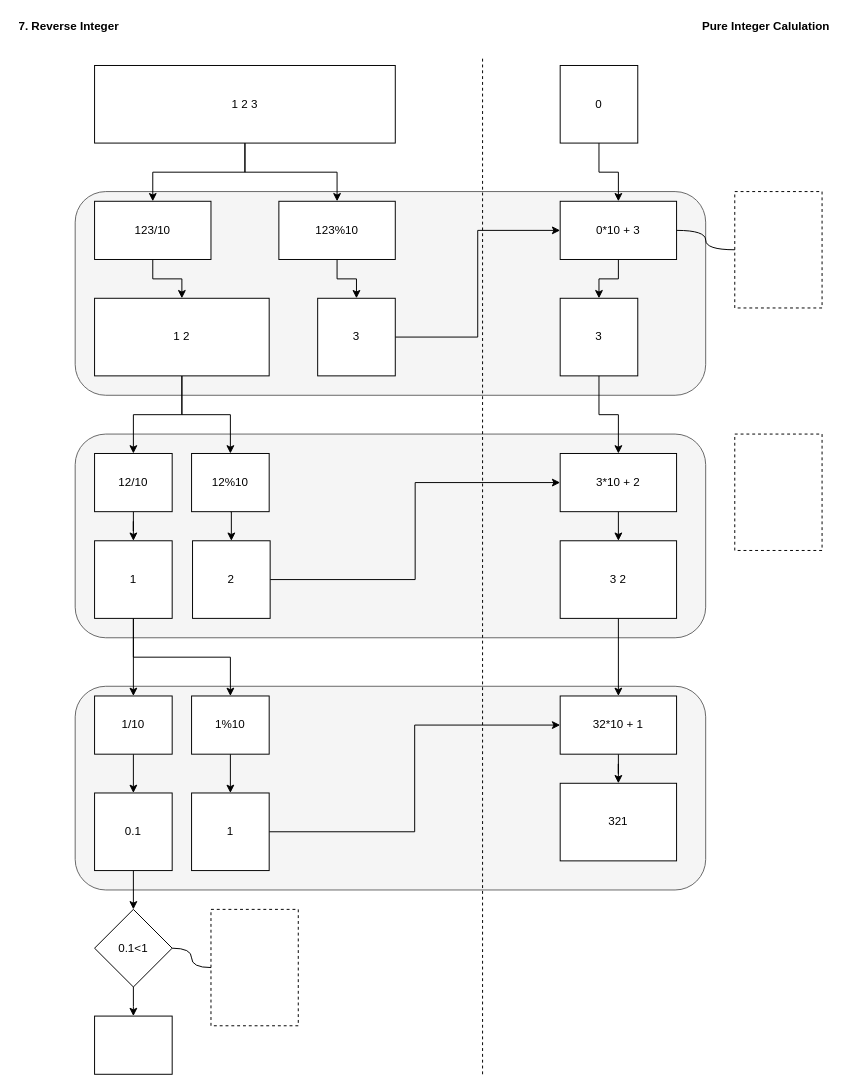
Some shapes in this 848 by 1092 pixel diagram are drawn without their labels. The shapes that lost their labels are listed below. From the top down, each one's centre as x and y in pixels, then its label:
(778,249): 0 at the end won't be a problem because 0*10+0 = 0
(778,491): 0 at the middle won't be a problem because 3*10+0 = 30
(254,967): the last digit divided by 10 will always be < 1 because it's number 1-9
(133,1044): STOP
